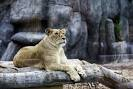lion: (13, 27, 88, 84)
